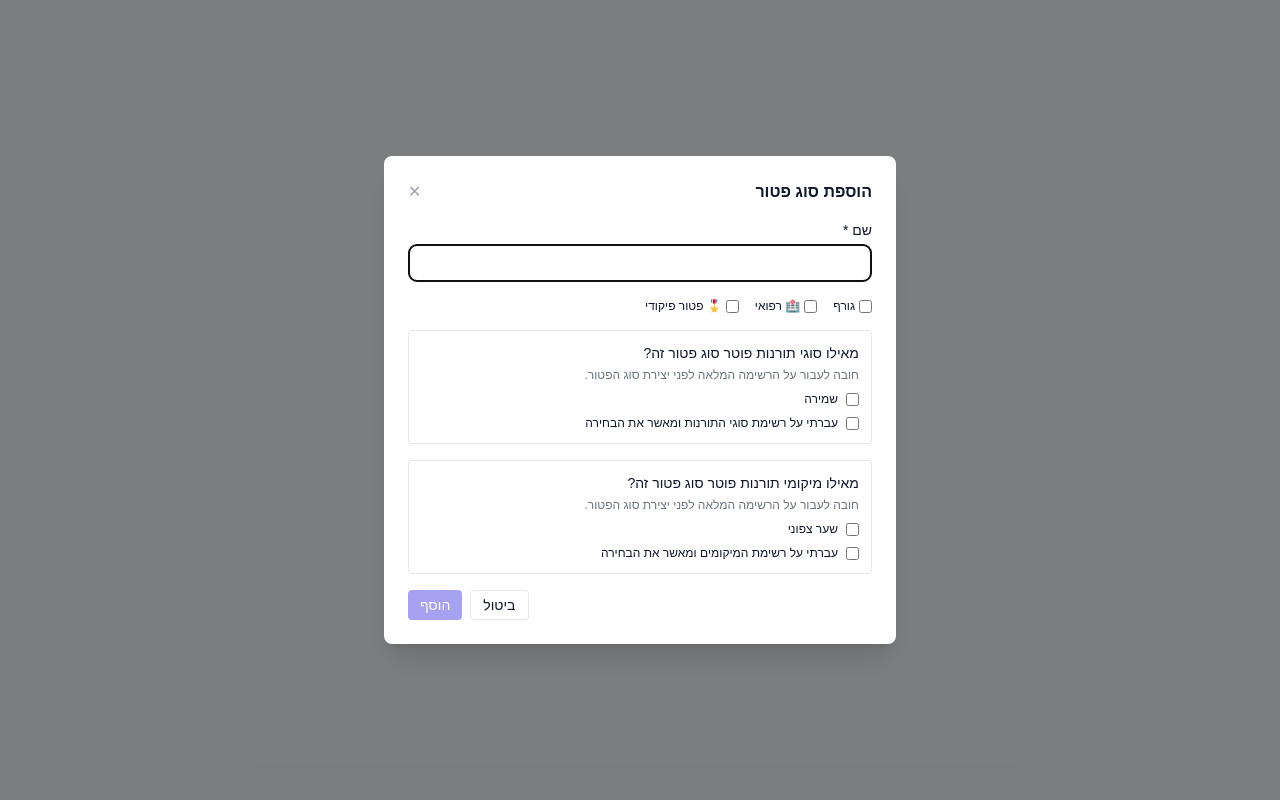
Scenario: ExemptionTypeFormModal › translates the backend detail when creation fails
Type "רפואי" into the field labelled "שם *" at coordinates (640, 263), box [408, 244, 872, 282]
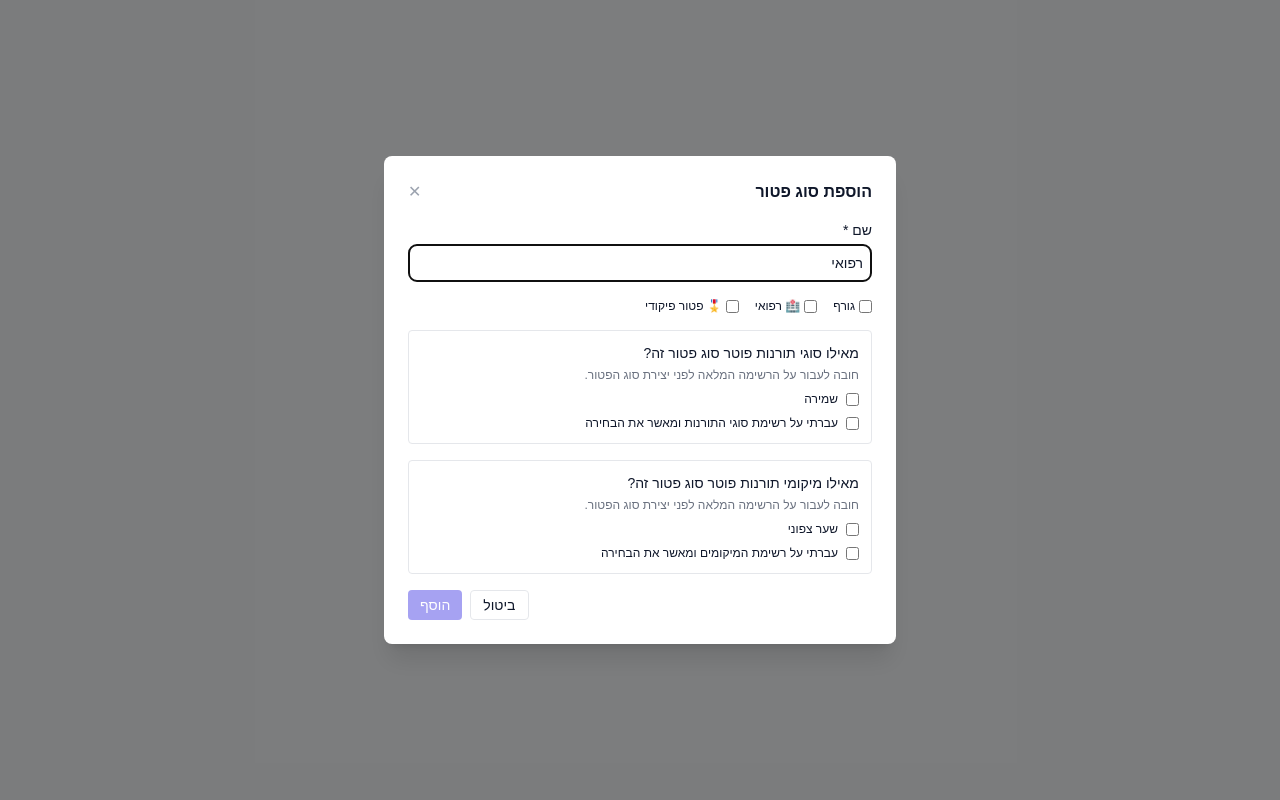
Click the checkbox labelled "עברתי על רשימת סוגי התורנות ומאשר את הבחירה" at coordinates (852, 423), box [846, 416, 859, 430]
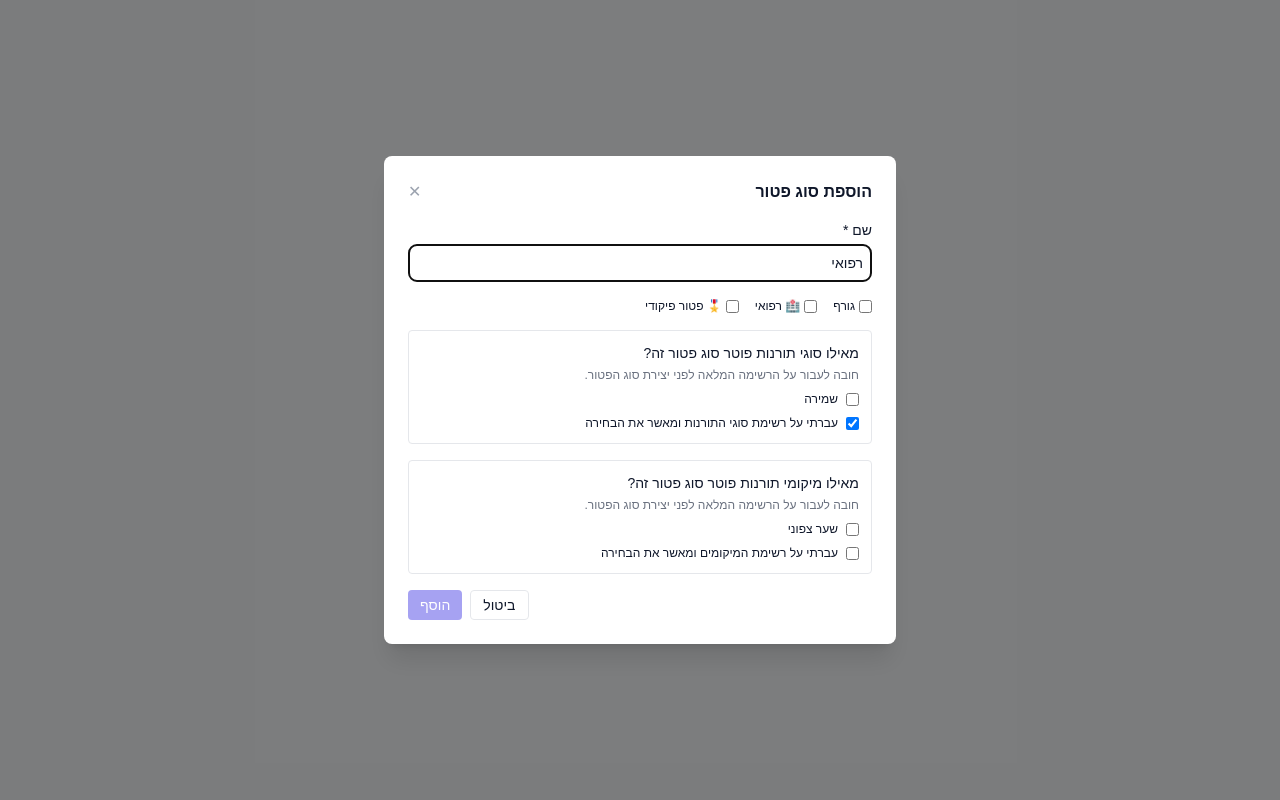
Click the checkbox labelled "עברתי על רשימת המיקומים ומאשר את הבחירה" at coordinates (852, 553), box [846, 546, 859, 560]
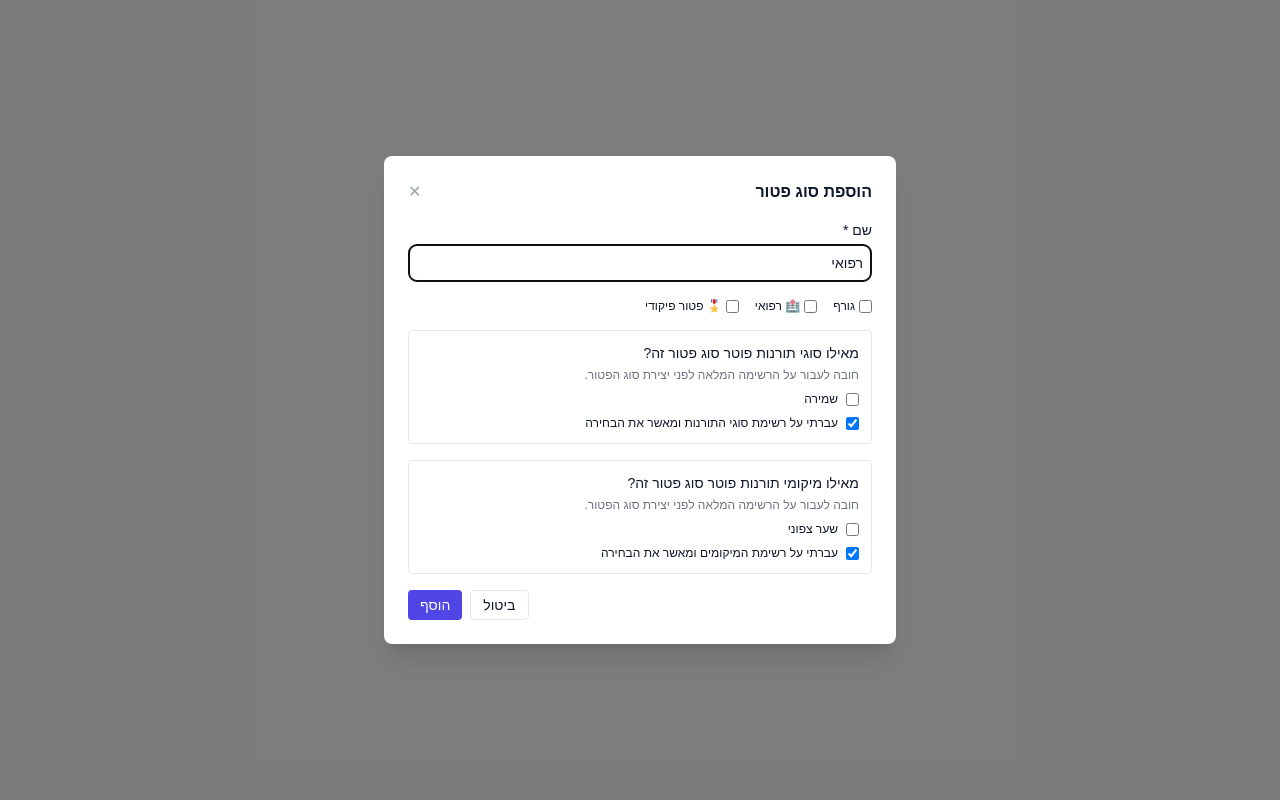
Click the button "הוסף" at coordinates (435, 605), box [408, 590, 462, 620]
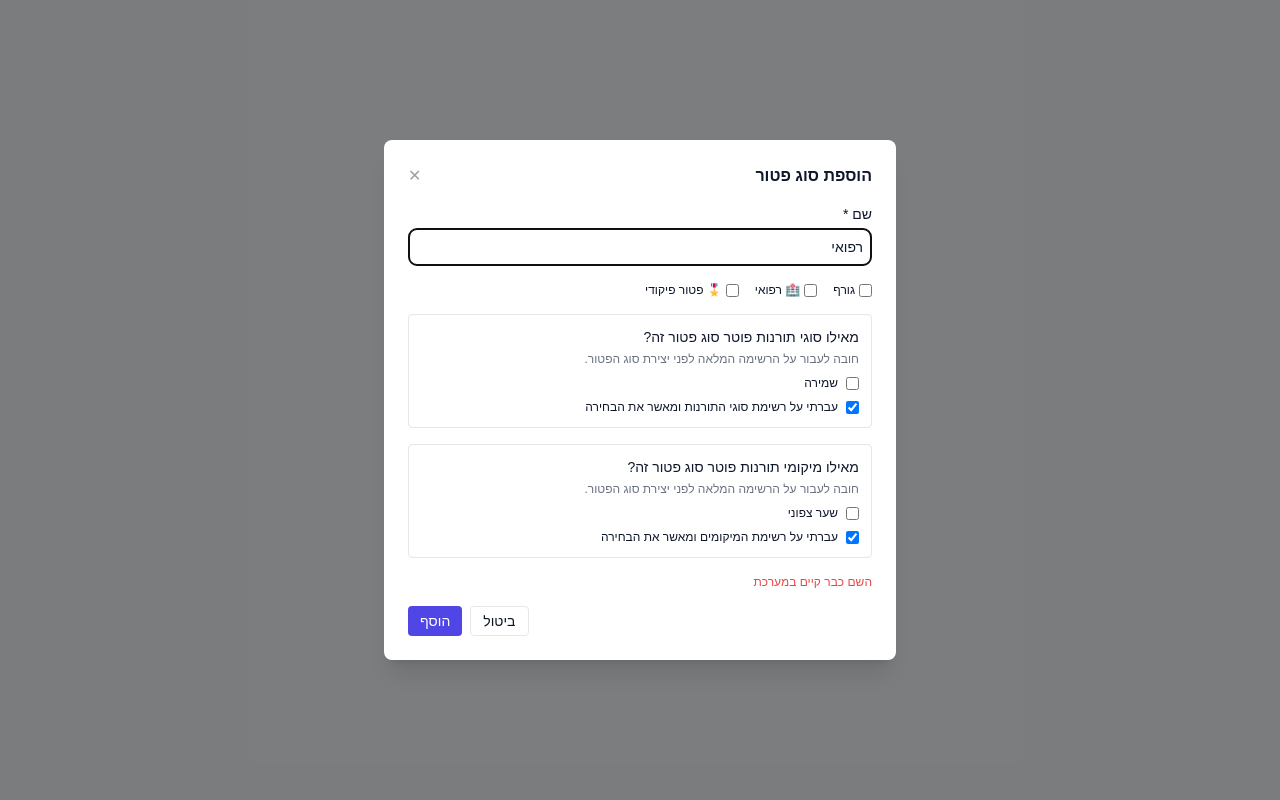
Check: the text "השם כבר קיים במערכת" is shown, box [754, 575, 872, 589]
